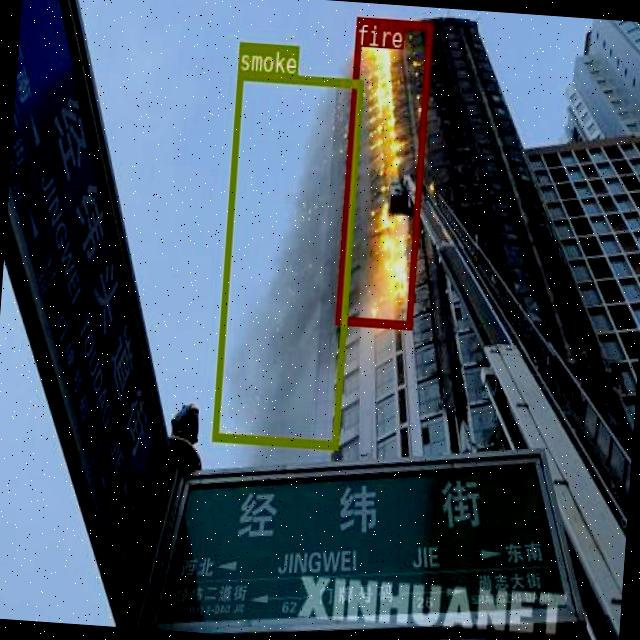fire: (334, 16, 432, 327)
smoke: (210, 70, 362, 448)
